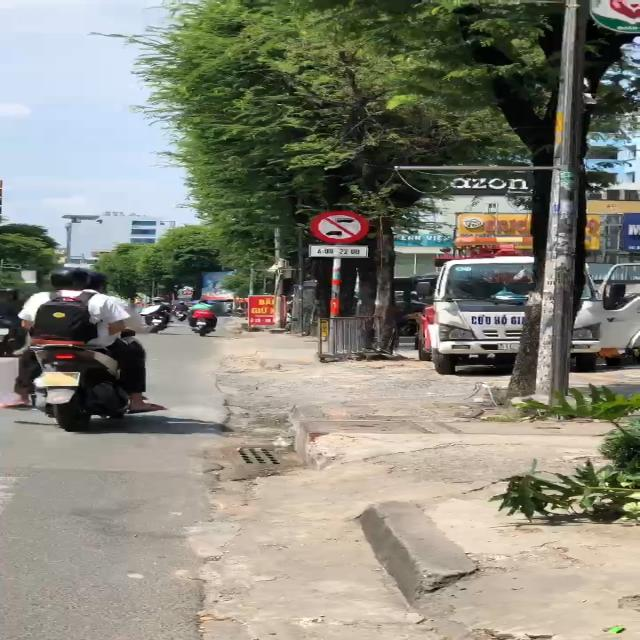Bien bao cam xe oto khach va xe oto tai: (306, 209, 371, 245)
